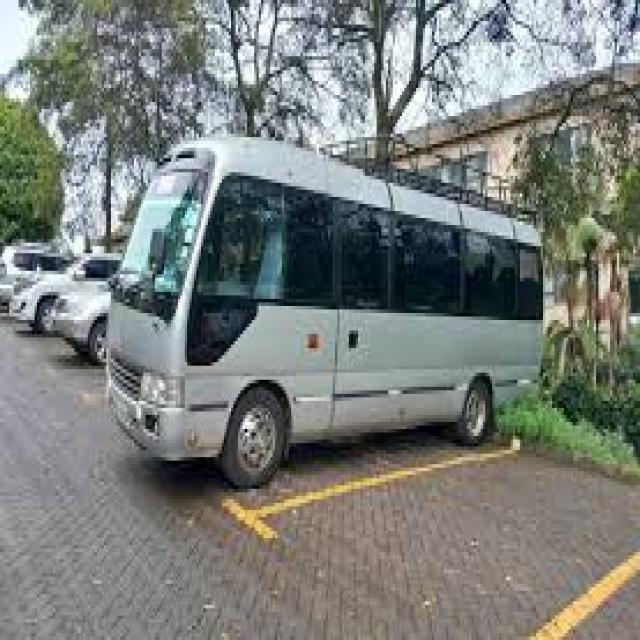bus: (85, 100, 556, 476)
